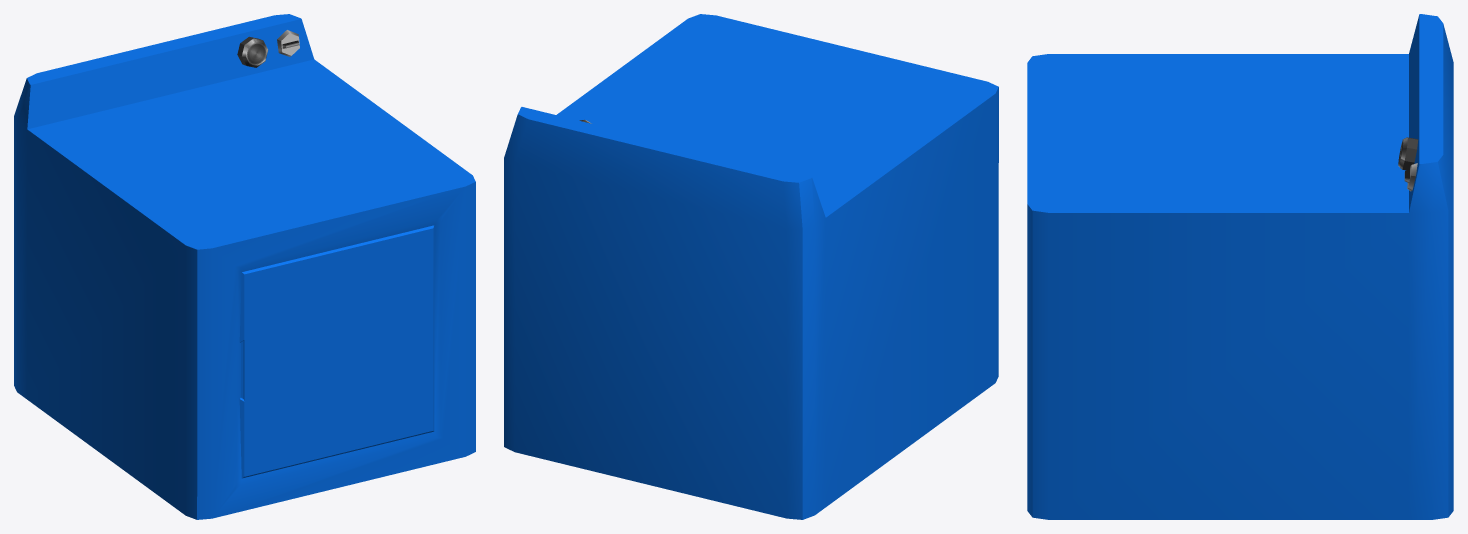
The model's file is Dryer_05.FBX.
The picture shows the model from 3 angles, left to right: view 1: azimuth 30°, elevation 25°; view 2: azimuth 150°, elevation 25°; view 3: azimuth 270°, elevation 25°; orthographic projection. The views are drawn at different scales.
Visible parts, largest first — view 1: Dryer; view 2: Dryer; view 3: Dryer.
Part boxes in pixels (x1,y1,x2,y2): Dryer: (14, 14, 475, 519); Dryer: (504, 14, 998, 519); Dryer: (1027, 14, 1453, 519).
Bounding box in the file's own units: 150 × 155 × 170.
